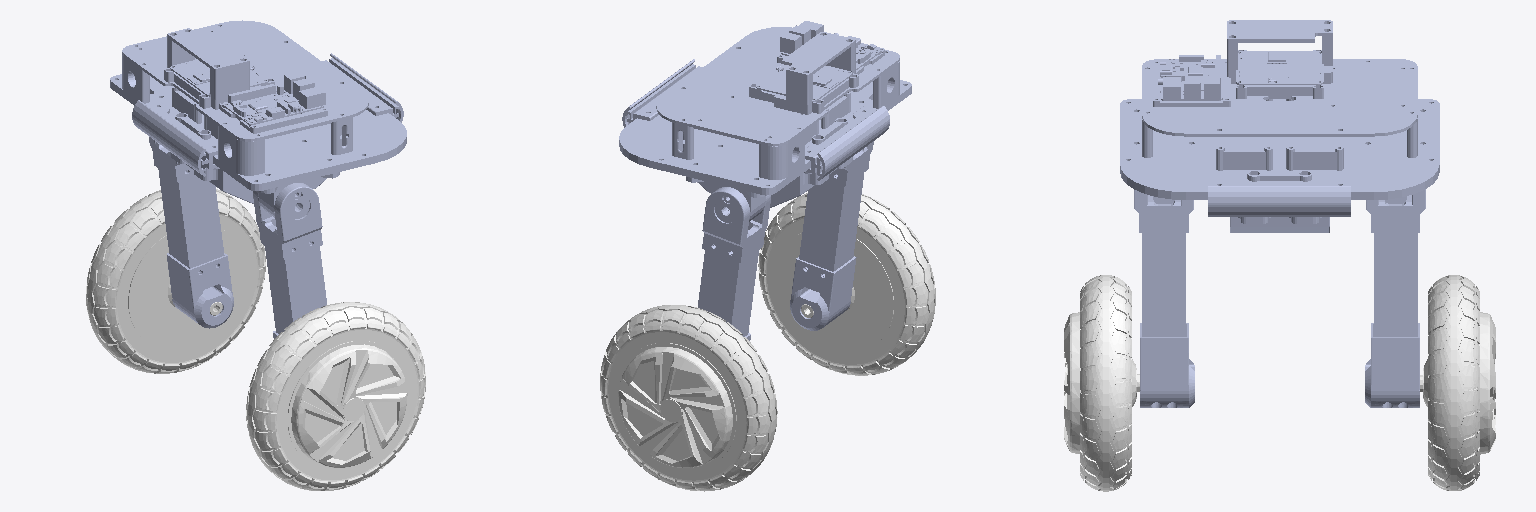
The robot description file, URDF, robot "HoverRobot":
<?xml version="1.0" encoding="utf-8"?>
<!-- This URDF was automatically created by SolidWorks to URDF Exporter! Originally created by [author] ([email redacted]) 
     Commit Version: 1.6.0-4-g7f85cfe  Build Version: 1.6.7995.38578
     For more information, please see http://wiki.ros.org/sw_urdf_exporter -->
<robot
  name="HoverRobot">
  <link
    name="base_link">
    <inertial>
      <origin
        xyz="0.00171515042148646 -0.00228933661043411 -0.0802327021083581"
        rpy="0 0 0" />
      <mass
        value="1.55020215164579" />
      <inertia
        ixx="0.00440413600234812"
        ixy="-1.68067952142844E-06"
        ixz="1.48418052374428E-05"
        iyy="0.00279549174608799"
        iyz="-8.57617612873675E-07"
        izz="0.00654484618482858" />
    </inertial>
    <visual>
      <origin
        xyz="0 0 0"
        rpy="0 0 0" />
      <geometry>
        <mesh
          filename="package://hoverrobot_description/meshes/base_link.STL" />
      </geometry>
      <material
        name="">
        <color
          rgba="0.792156862745098 0.819607843137255 0.933333333333333 1" />
      </material>
    </visual>
    <collision>
      <origin
        xyz="0 0 0"
        rpy="0 0 0" />
      <geometry>
        <mesh
          filename="package://hoverrobot_description/meshes/base_link.STL" />
      </geometry>
    </collision>
  </link>
  <link
    name="rueda_izquierda_link">
    <inertial>
      <origin
        xyz="1.2202E-06 4.4531E-06 0.08185"
        rpy="0 0 0" />
      <mass
        value="0.5" />
      <inertia
        ixx="0.0033197"
        ixy="-1.5836E-08"
        ixz="1.0219E-07"
        iyy="0.0033196"
        iyz="3.8047E-07"
        izz="0.0059555" />
    </inertial>
    <visual>
      <origin
        xyz="0 0 0"
        rpy="0 0 0" />
      <geometry>
        <mesh
          filename="package://hoverrobot_description/meshes/rueda_izquierda_link.STL" />
      </geometry>
      <material
        name="">
        <color
          rgba="0.95294 0.95294 0.95294 1" />
      </material>
    </visual>
    <collision>
      <origin
        xyz="0 0 0"
        rpy="0 0 0" />
      <geometry>
        <mesh
          filename="package://hoverrobot_description/meshes/rueda_izquierda_link.STL" />
      </geometry>
    </collision>
  </link>
  <joint
    name="rueda_izquierda_joint"
    type="continuous">
    <origin
      xyz="0.0067993 0.0785 -0.28423"
      rpy="-1.5708 0 0" />
    <parent
      link="base_link" />
    <child
      link="rueda_izquierda_link" />
    <axis
      xyz="0 0 1" />
    <limit
      effort="100"
      velocity="100" />
    <dynamics
      damping="0.1"
      friction="0.1" />
  </joint>
  <link
    name="rueda_derecha_link">
    <inertial>
      <origin
        xyz="0 0 0"
        rpy="0 0 0" />
      <mass
        value="0.5" />
      <inertia
        ixx="0.0033197"
        ixy="-1.5836E-08"
        ixz="1.0219E-07"
        iyy="0.0033196"
        iyz="3.8047E-07"
        izz="0.0059555" />
    </inertial>
    <visual>
      <origin
        xyz="0 0 0"
        rpy="0 0 0" />
      <geometry>
        <mesh
          filename="package://hoverrobot_description/meshes/rueda_derecha_link.STL" />
      </geometry>
      <material
        name="">
        <color
          rgba="1 1 1 1" />
      </material>
    </visual>
    <collision>
      <origin
        xyz="0 0 0"
        rpy="0 0 0" />
      <geometry>
        <mesh
          filename="package://hoverrobot_description/meshes/rueda_derecha_link.STL" />
      </geometry>
    </collision>
  </link>
  <joint
    name="rueda_derecha_joint"
    type="continuous">
    <origin
      xyz="0.0065514 -0.07825 -0.28427"
      rpy="-1.5708 0 0" />
    <parent
      link="base_link" />
    <child
      link="rueda_derecha_link" />
    <axis
      xyz="0 0 1" />
    <limit
      effort="100"
      velocity="100" />
    <dynamics
      damping="0.1"
      friction="0.1" />
  </joint>
</robot>

--- Render facts (derived) ---
3 views of the same robot in one strip: view 1: azimuth 30°, elevation 25°; view 2: azimuth 150°, elevation 25°; view 3: azimuth 270°, elevation 25° (orthographic).
Robot: HoverRobot — 3 links, 2 joints (2 continuous); root link base_link; default pose: every joint at zero.
Visible links, largest first — view 1: base_link, rueda_derecha_link, rueda_izquierda_link; view 2: base_link, rueda_izquierda_link, rueda_derecha_link; view 3: base_link, rueda_izquierda_link, rueda_derecha_link.
Link boxes in pixels (x1,y1,x2,y2): base_link: [110, 20, 406, 338]; rueda_derecha_link: [246, 302, 425, 490]; rueda_izquierda_link: [86, 189, 265, 373]; base_link: [619, 21, 911, 340]; rueda_izquierda_link: [600, 305, 777, 491]; rueda_derecha_link: [758, 193, 935, 375]; base_link: [1120, 20, 1439, 407]; rueda_izquierda_link: [1420, 275, 1495, 490]; rueda_derecha_link: [1064, 275, 1139, 491].
Bounding box of the posed robot: 0.234 × 0.3928 × 0.4271 m (x, y, z).
Meshes: 3 distinct files referenced, 3 mesh visuals loaded (3 binary STL).